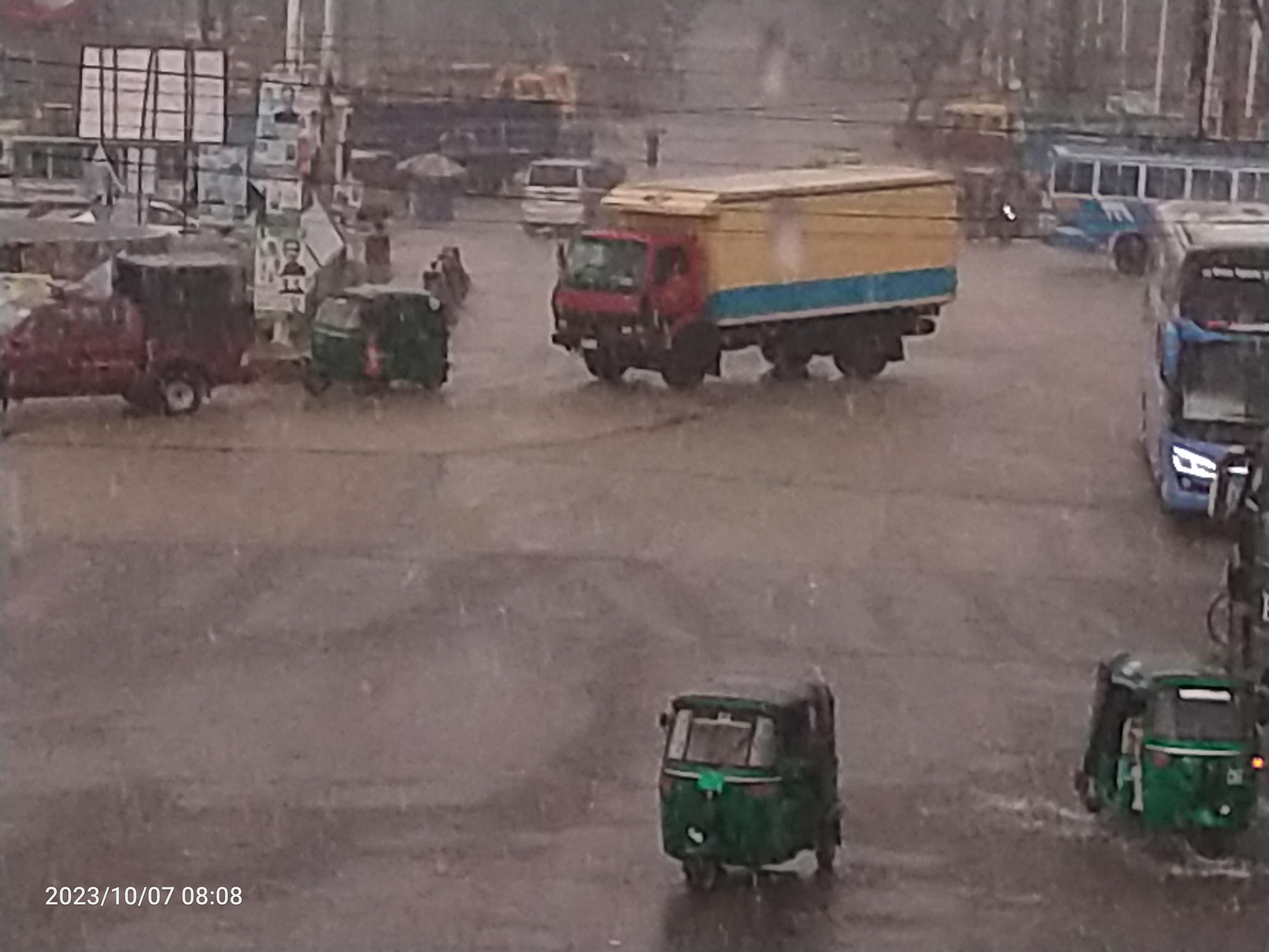Bus: (1126, 190, 1269, 551), (1021, 115, 1269, 284), (6, 115, 251, 248)
Car: (502, 133, 609, 255)
Truck: (532, 155, 970, 418), (0, 226, 273, 477), (290, 57, 592, 199)
